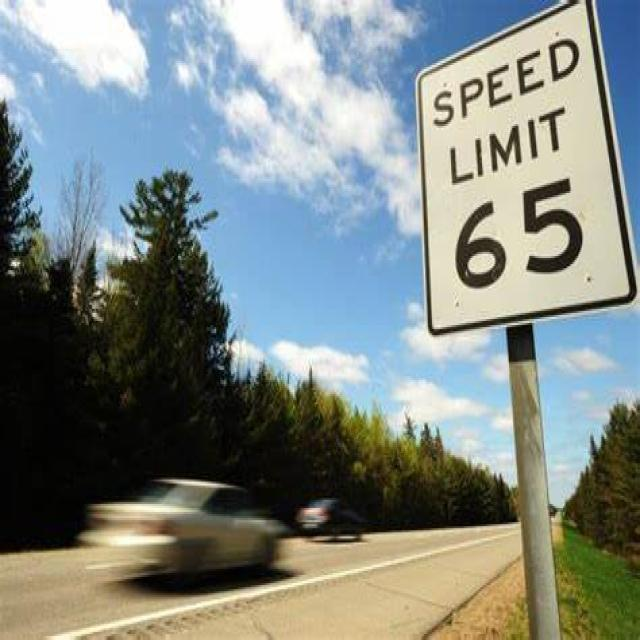speedLimit65: (407, 6, 625, 342)
